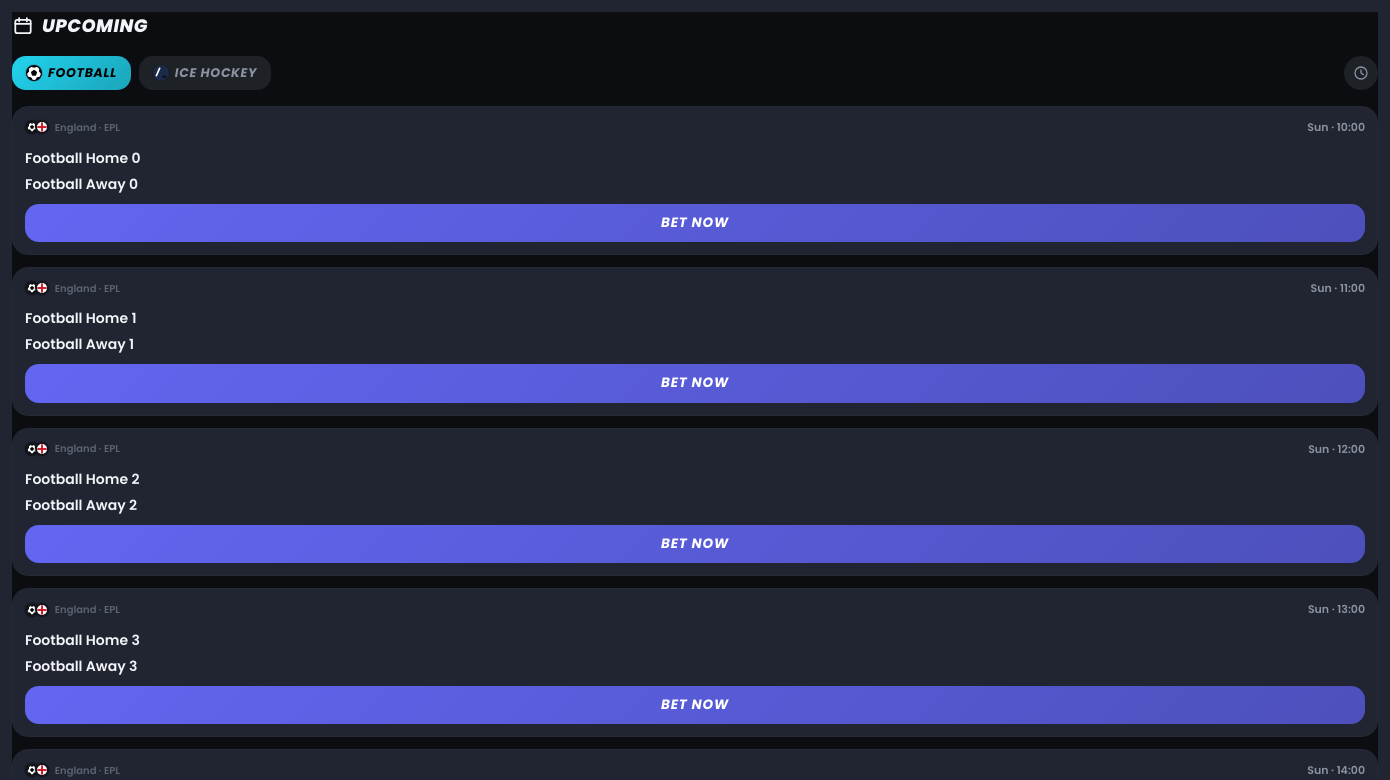
Test: OddsBoardPage › keeps the kickoff time filter collapsed behind a clock icon until clicked, defaulting to All
What coordinates should you click on to do the following:
click the button named "Filter by kickoff time"
I would click on:
 (1361, 73)
Its box is [1344,56,1378,90].
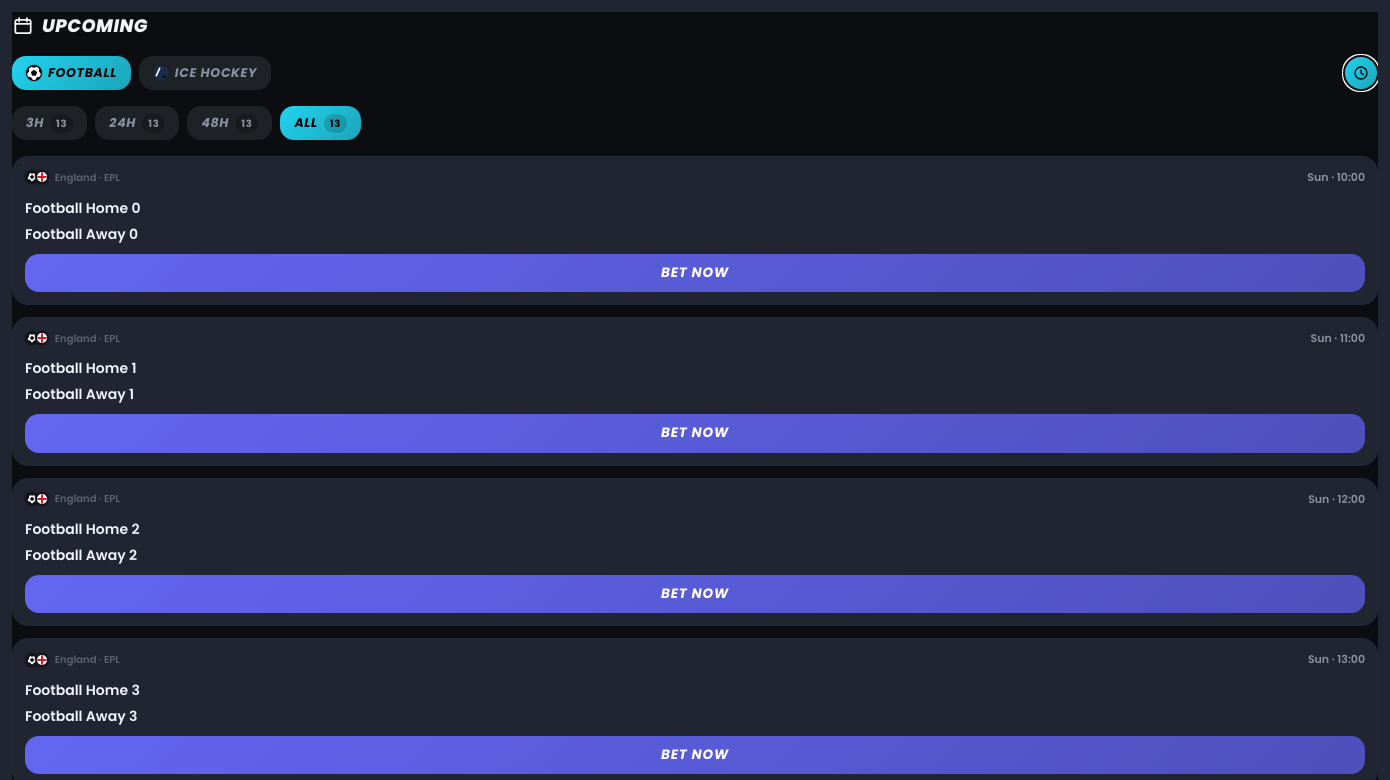
Expected: the element named "Filter by kickoff time" is shown, [12,106,361,140]
